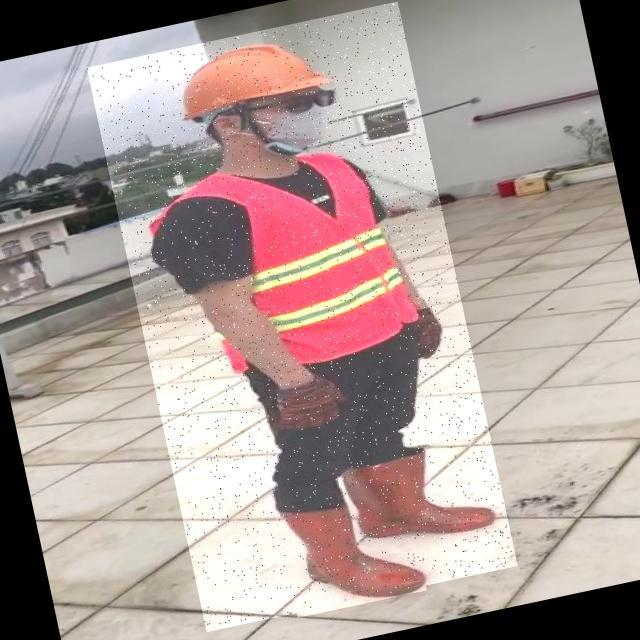Gloves: (269, 373, 350, 435), (410, 303, 449, 362)
Helmet: (163, 28, 331, 122)
Human: (87, 1, 518, 632)
Safety Boot: (275, 485, 426, 617), (339, 440, 496, 554)
Safety Vest: (126, 142, 420, 390)
